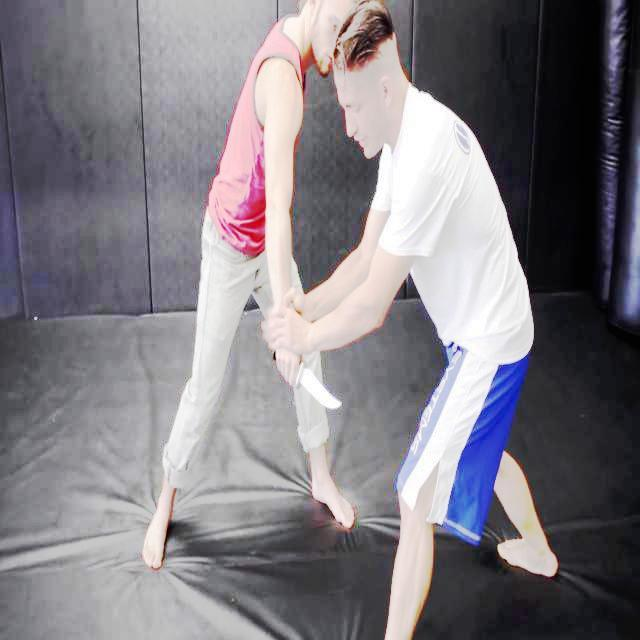Knife: (298, 368, 347, 417)
